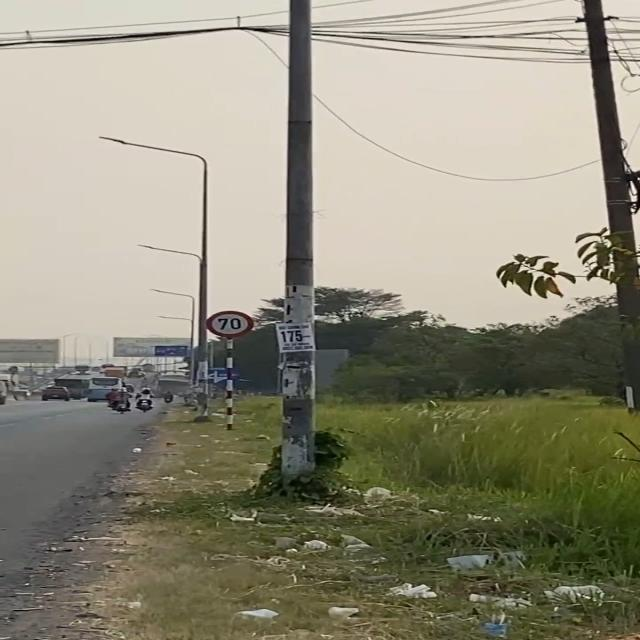127-toc-do-toi-da-70: (207, 310, 256, 338)
